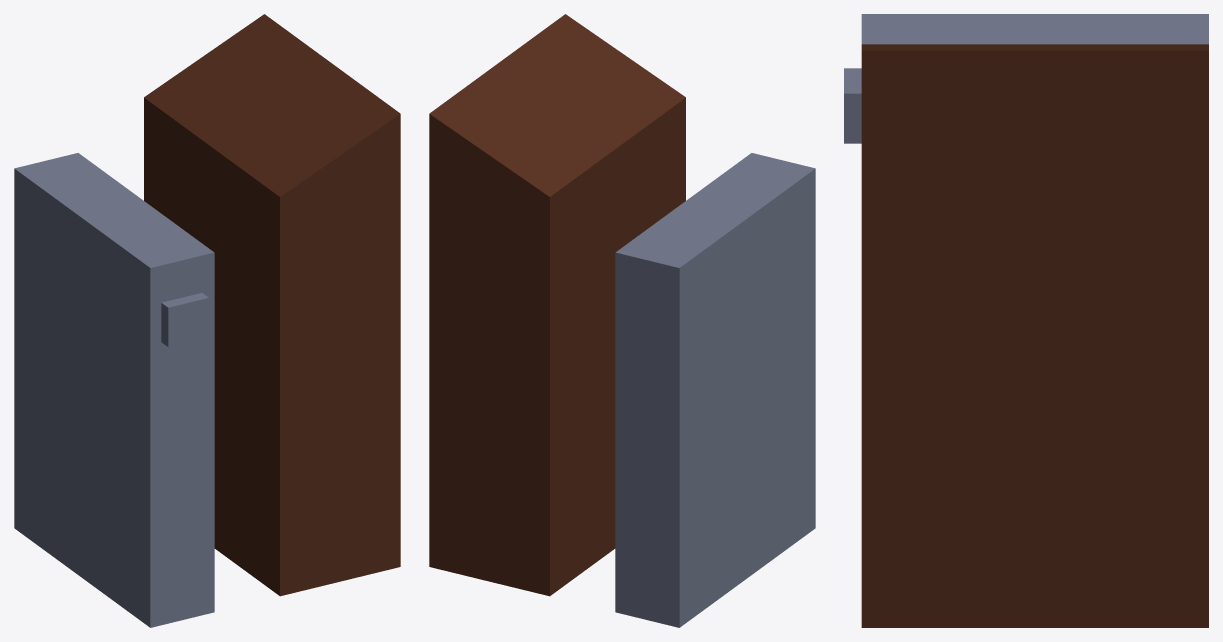
The model's file is Prop_Electric_Box.fbx.
The picture shows the model from 3 angles, left to right: view 1: azimuth 30°, elevation 25°; view 2: azimuth 150°, elevation 25°; view 3: azimuth 270°, elevation 25°; orthographic projection. The views are drawn at different scales.
Visible parts, largest first — view 1: Prop_Electric_Box; view 2: Prop_Electric_Box; view 3: Prop_Electric_Box.
Part boxes in pixels (box(x1,y1,x2,y2)): Prop_Electric_Box: box(14, 14, 400, 627); Prop_Electric_Box: box(429, 14, 815, 627); Prop_Electric_Box: box(844, 14, 1208, 627).
Bounding box in the file's own units: 74.24 × 128 × 73.56.
